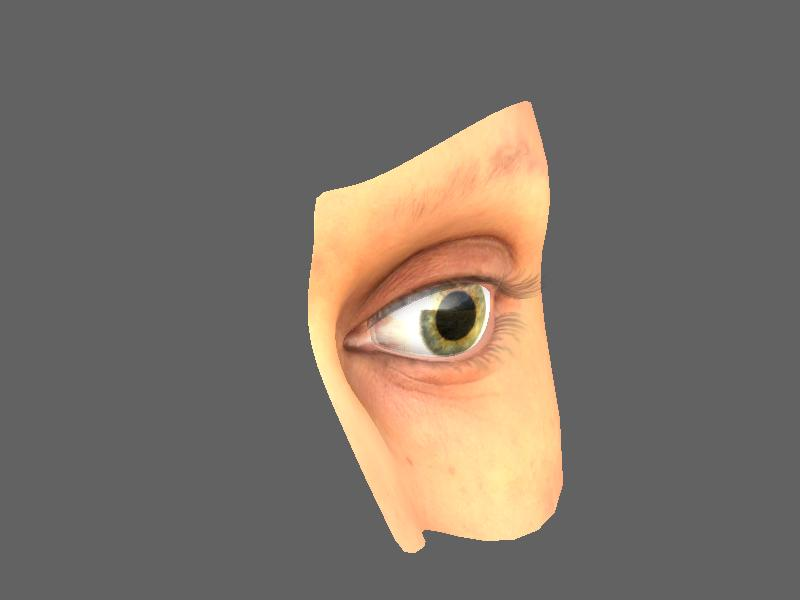iris: (422, 279, 491, 360)
